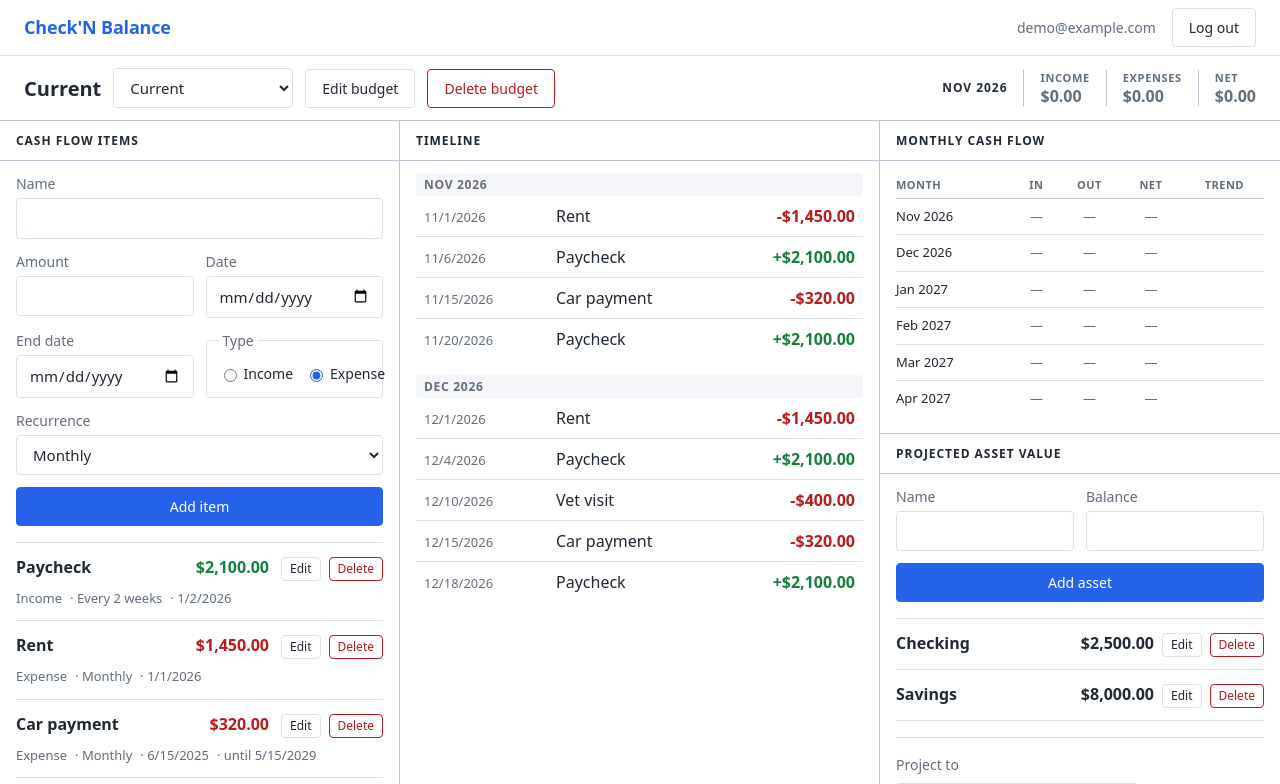
Test case: keeping it in sync › editing an item refetches and shows the new amount
Click the button with aria-label "Edit Rent". click: (301, 647)
box: [281,635,320,659]
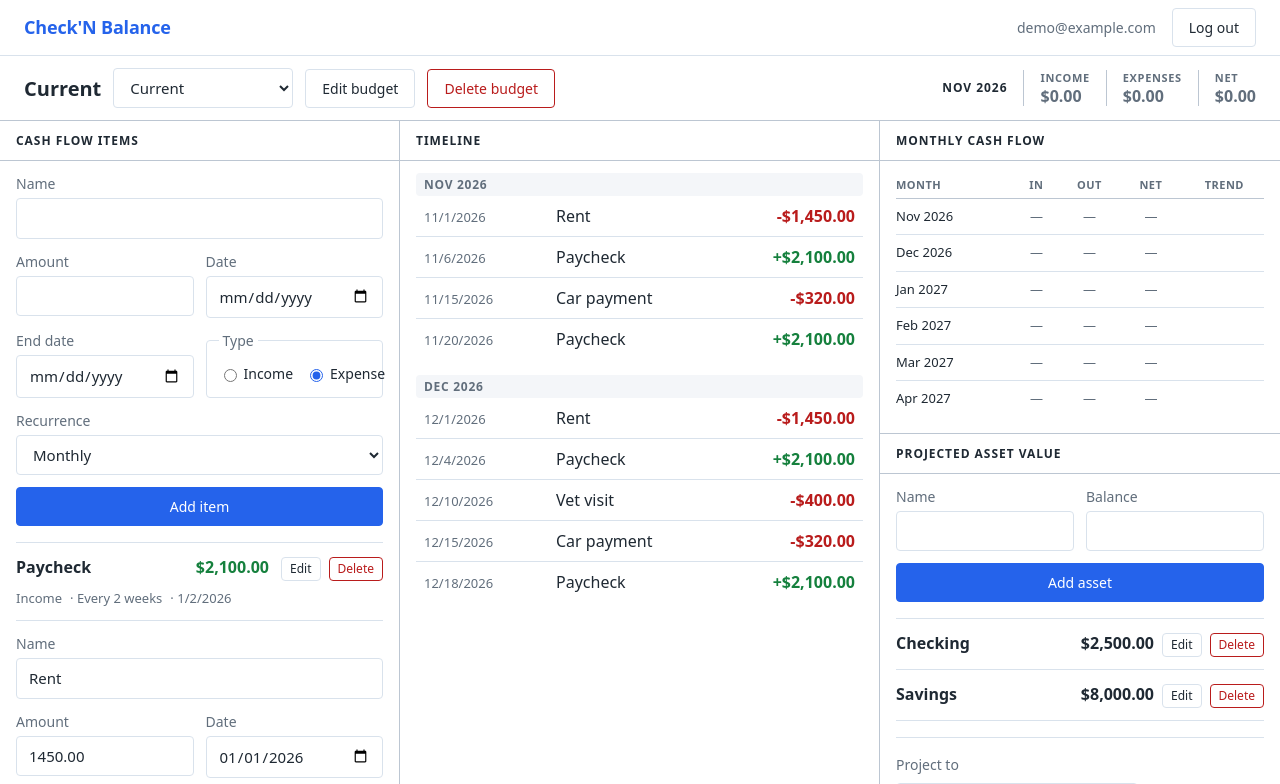
Replace the text in the number field labelled "Amount" below "Every 2 weeks" with "1500". click: (105, 756)
box: [16,736,194,776]
(page scrolled)
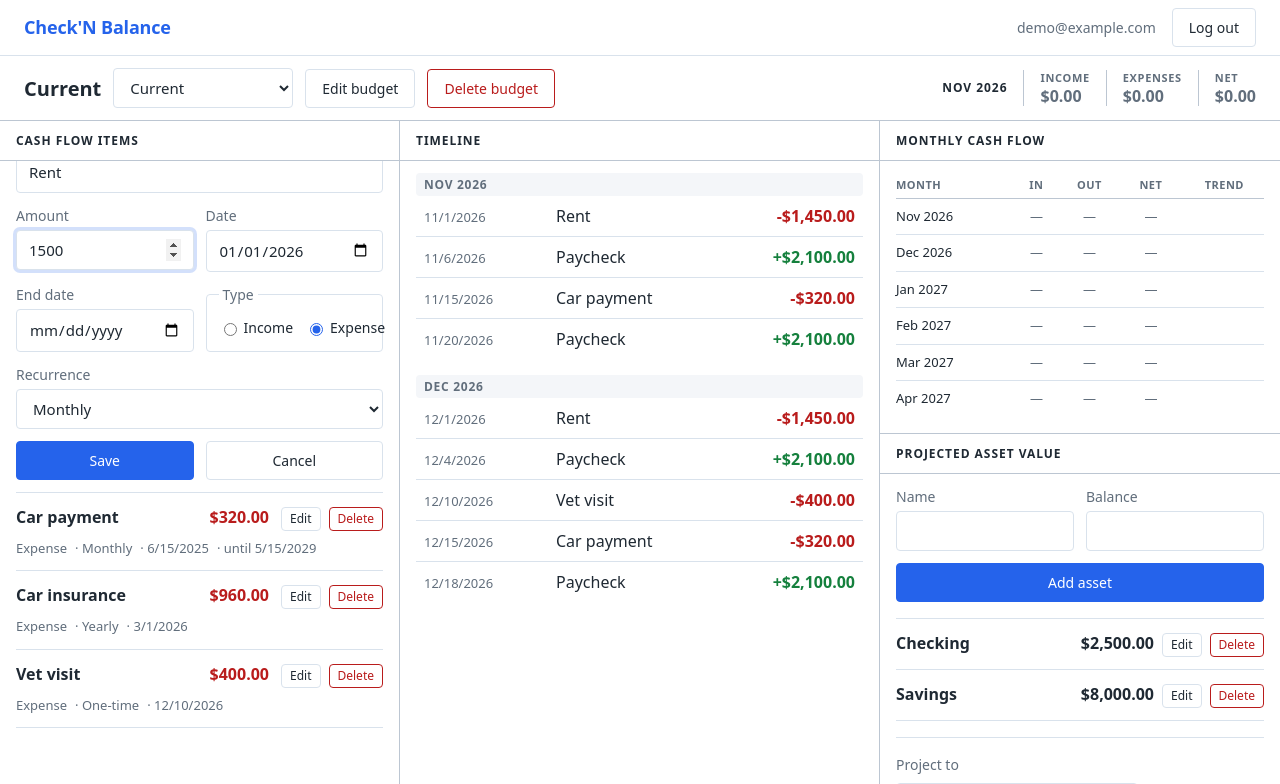
Click the button "Save". click: (105, 460)
box: [16,440,194,480]
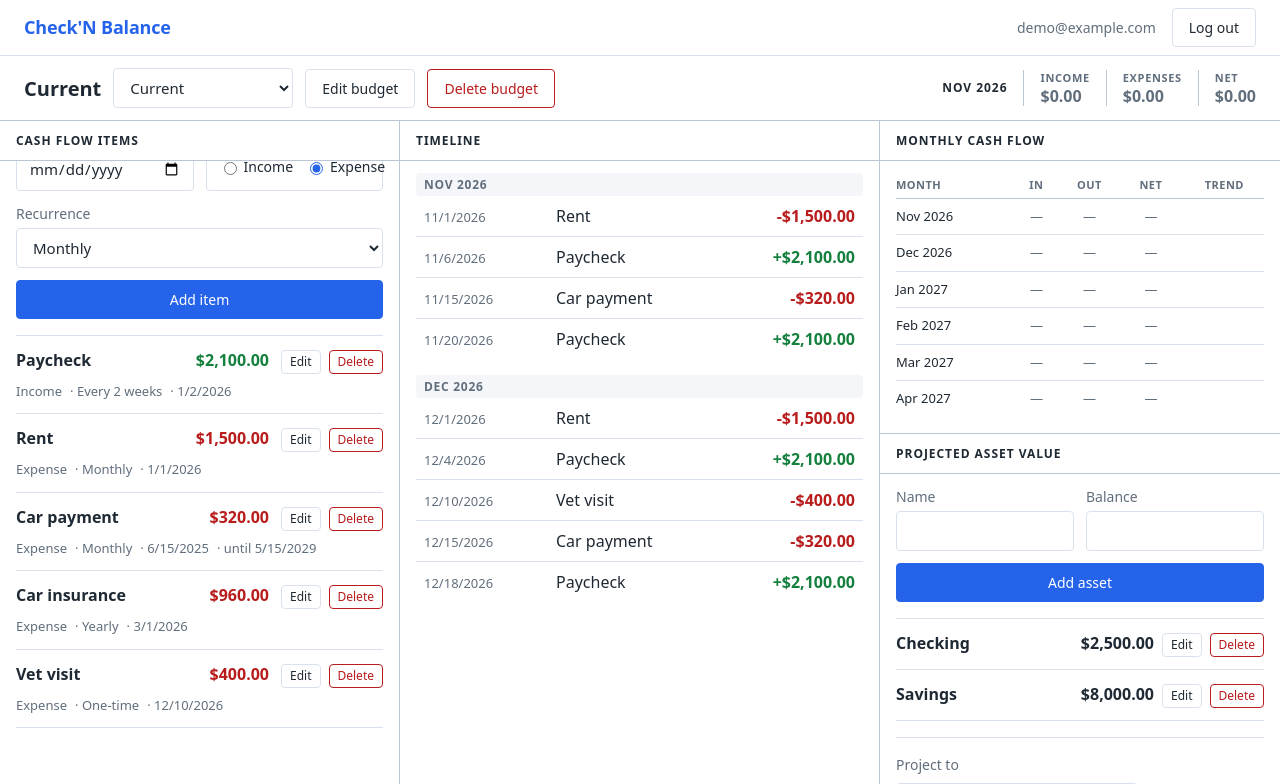
Expected: the list item "11/1/2026 Rent -$1,500.00" is shown, [416,196,863,237]
